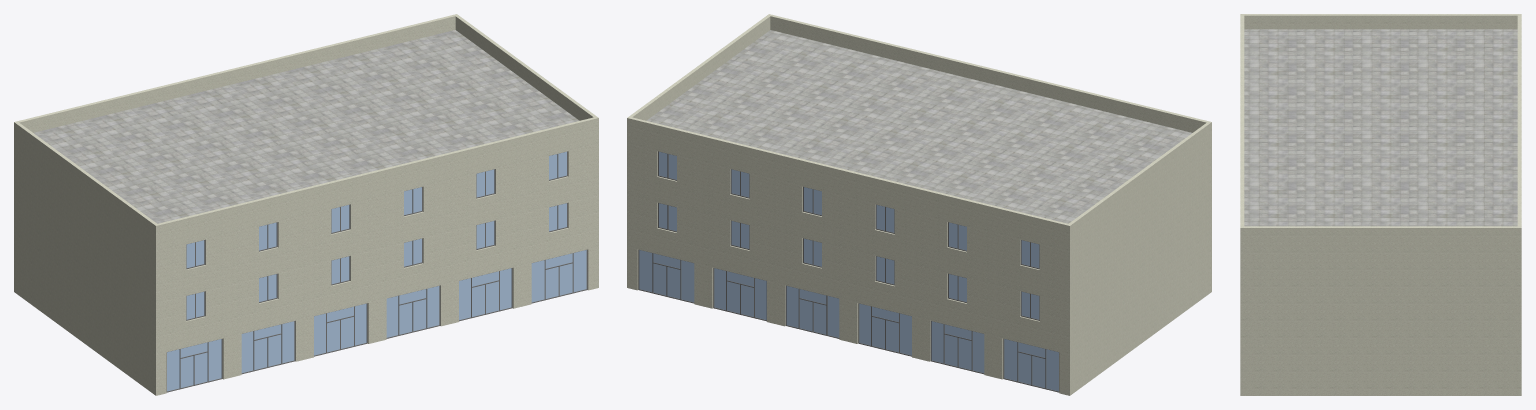
Rendered from MAIN_BUILDING.gltf.
3 views of the same model, side by side, from view 1: azimuth 30°, elevation 25°; view 2: azimuth 150°, elevation 25°; view 3: azimuth 270°, elevation 25° (orthographic).
Parts seen in each view (by area): view 1: MAIN_BUILDING_MASK; view 2: MAIN_BUILDING_MASK; view 3: MAIN_BUILDING_MASK.
Part boxes in pixels (x1,y1,x2,y2): MAIN_BUILDING_MASK: (14, 14, 598, 395); MAIN_BUILDING_MASK: (627, 14, 1211, 395); MAIN_BUILDING_MASK: (1240, 14, 1521, 395).
Size of the model in its own units: 27 by 9.9 by 15.
Materials: 5 (3 with a texture image).
